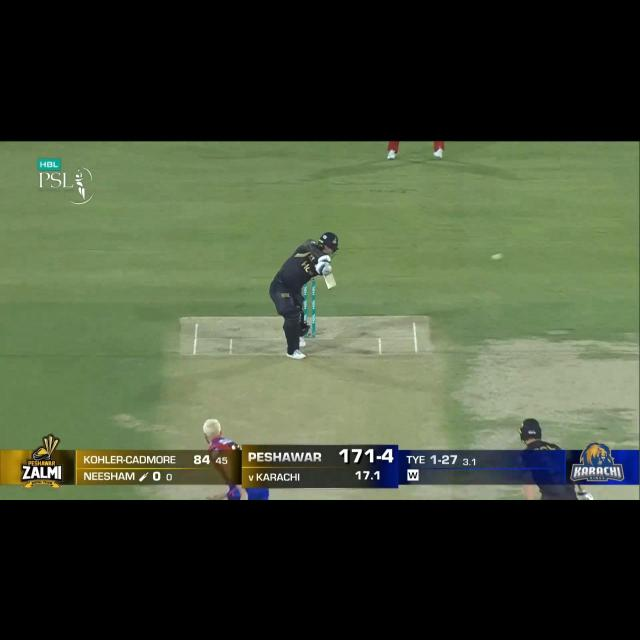bat: (321, 268, 338, 290)
toe: (325, 281, 339, 289)
